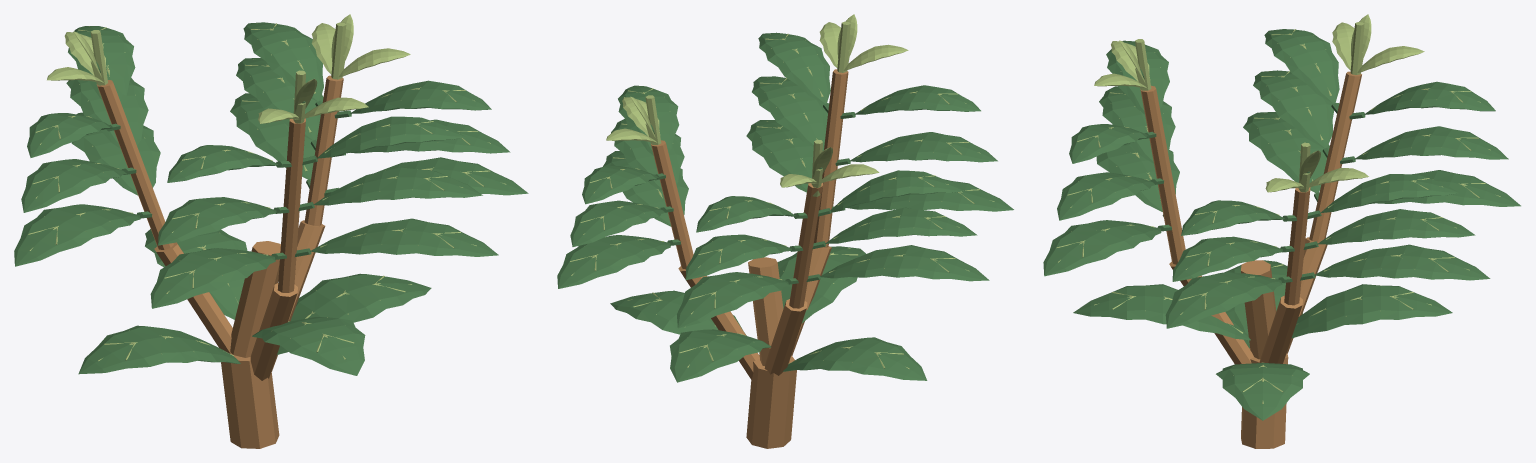
Rendered from SM_TeaBush.fbx.
3 renders of one model, left to right at view 1: azimuth 30°, elevation 25°; view 2: azimuth 150°, elevation 25°; view 3: azimuth 270°, elevation 25°, orthographic. The views are drawn at different scales.
Visible parts, largest first — view 1: FoliageRoot, ReadyAccents; view 2: FoliageRoot, ReadyAccents; view 3: FoliageRoot, ReadyAccents.
Part boxes in pixels (bbox=[...]): FoliageRoot: bbox=[14, 22, 528, 448]; ReadyAccents: bbox=[47, 14, 410, 123]; FoliageRoot: bbox=[557, 32, 1013, 448]; ReadyAccents: bbox=[606, 14, 908, 187]; FoliageRoot: bbox=[1043, 29, 1520, 448]; ReadyAccents: bbox=[1094, 14, 1424, 192].
Bounding box in the file's own units: 0.9 × 0.78 × 0.8589.
